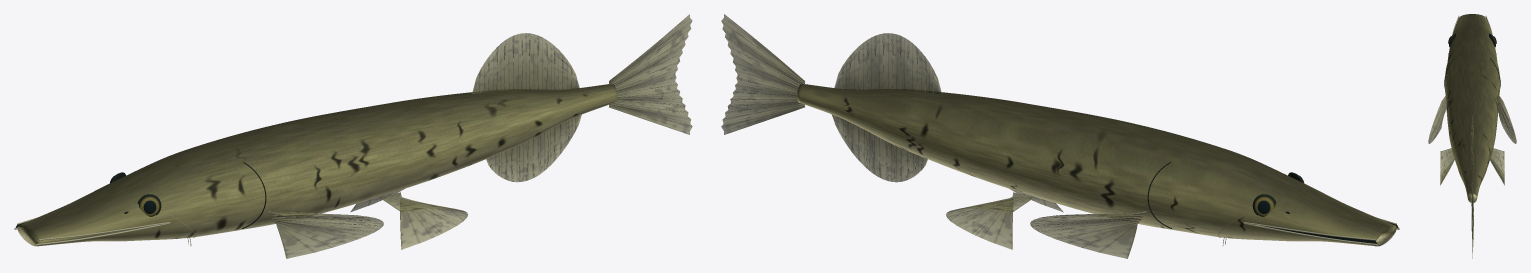
File: muskie.glb
3 views of the same model, side by side, from view 1: azimuth 30°, elevation 25°; view 2: azimuth 150°, elevation 25°; view 3: azimuth 270°, elevation 25° (orthographic). The views are drawn at different scales.
Visible parts, largest first — view 1: muskie specimen; view 2: muskie specimen; view 3: muskie specimen.
Boxes of the visible parts, x1=… form: muskie specimen: x1=14, y1=14, x2=692, y2=258; muskie specimen: x1=721, y1=14, x2=1399, y2=258; muskie specimen: x1=1428, y1=14, x2=1516, y2=258.
Bounding box in the file's own units: 2.6 × 0.6048 × 0.475.
Materials: 9 (5 with a texture image).
